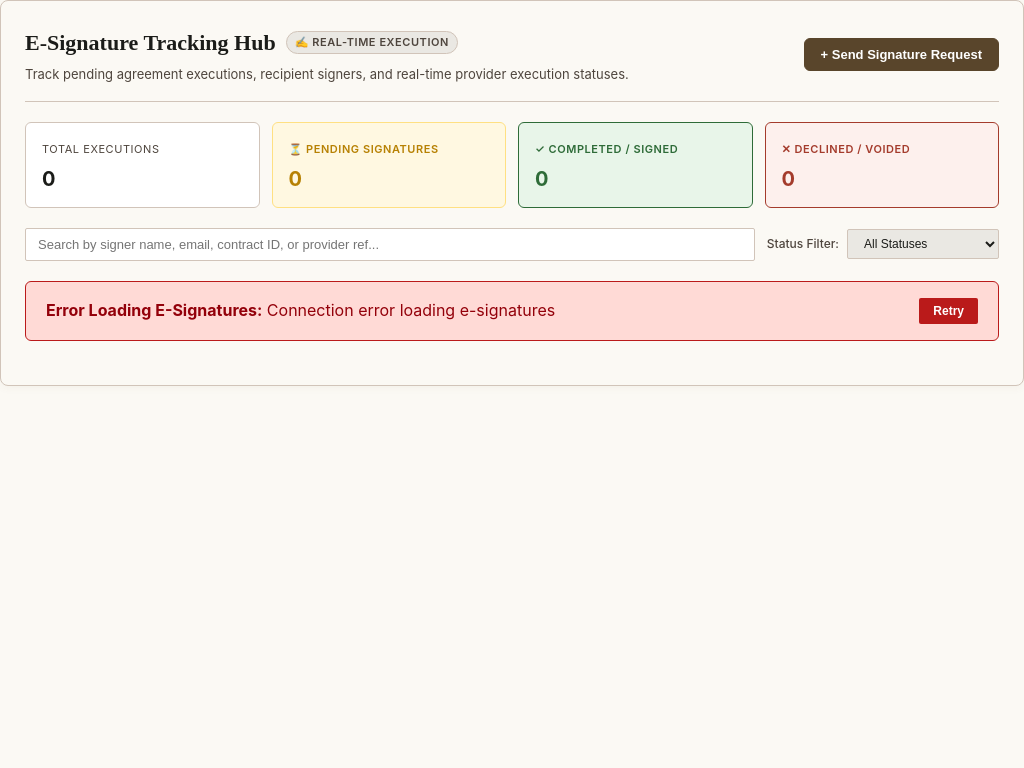
Test case: ESignatureHub Component › renders error state when API fetch fails and provides retry button
Expected: the element with test id "esign-error-state" is shown, [25, 281, 999, 341]
Expected: the text "Connection error loading e-signatures" is shown, [267, 300, 555, 320]
Click the button with test id "esign-retry-button" at x=949, y=311, box [919, 298, 978, 324]
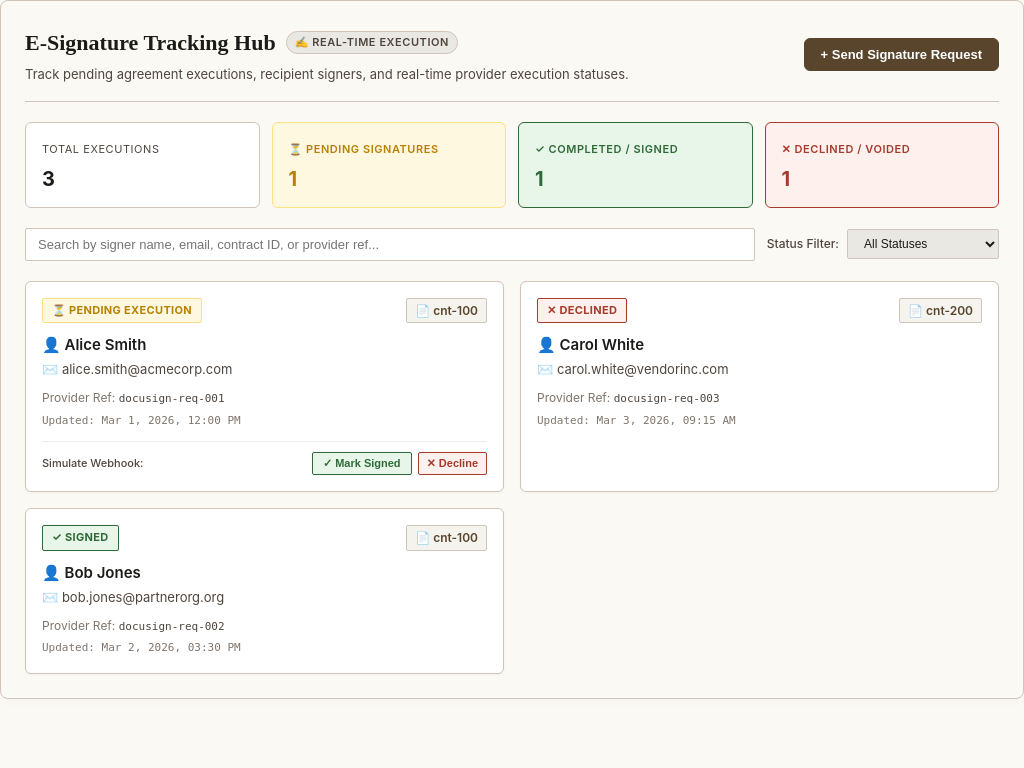
Now the element with test id "esign-error-state" is gone
Now the number of elements with test id "esign-request-item" is 3, box [25, 281, 504, 492]; [520, 281, 999, 492]; [25, 508, 504, 674]
